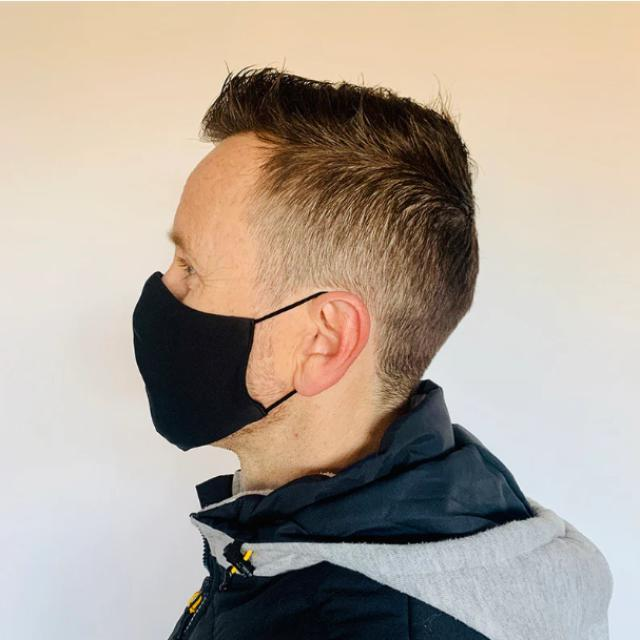face_mask: (131, 146, 368, 454)
